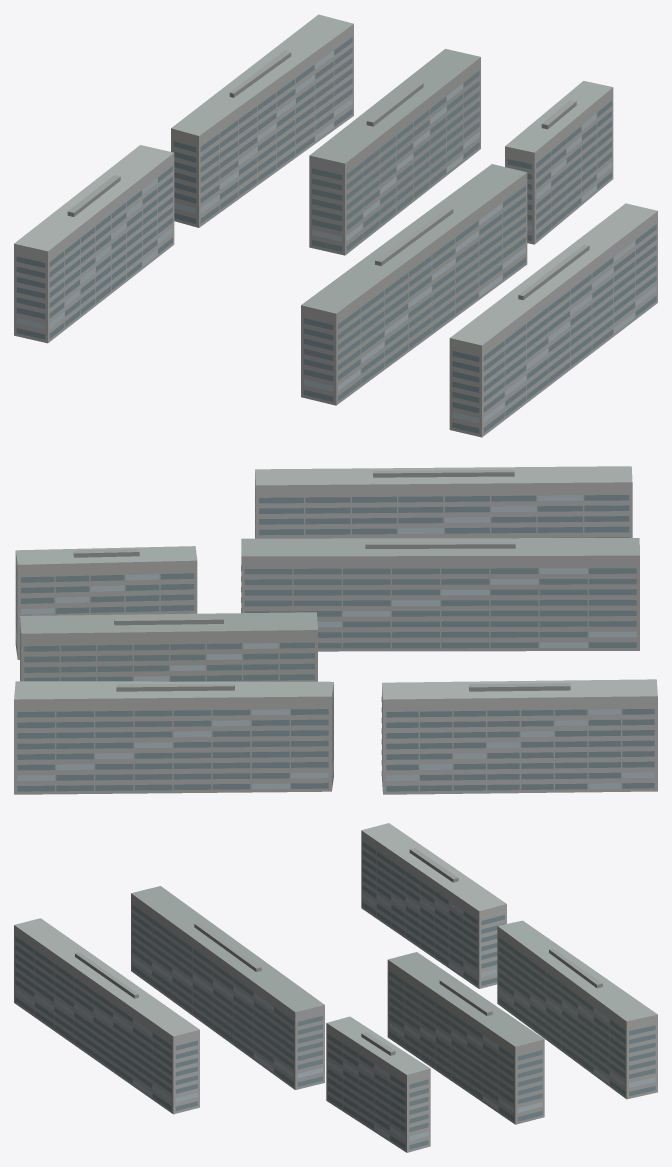
File: apt-a13527016.glb
3 renders of one model, top to bottom at view 1: azimuth 30°, elevation 25°; view 2: azimuth 150°, elevation 25°; view 3: azimuth 270°, elevation 25°, orthographic. The views are drawn at different scales.
Visible parts, largest first — view 1: apt-a13527016; view 2: apt-a13527016; view 3: apt-a13527016.
Boxes of the visible parts, box(x1,y1,x2,y2) form: apt-a13527016: box(14, 14, 657, 437); apt-a13527016: box(14, 466, 657, 794); apt-a13527016: box(14, 823, 657, 1152).
Bounding box in the file's own units: 190 × 28.69 × 206.
